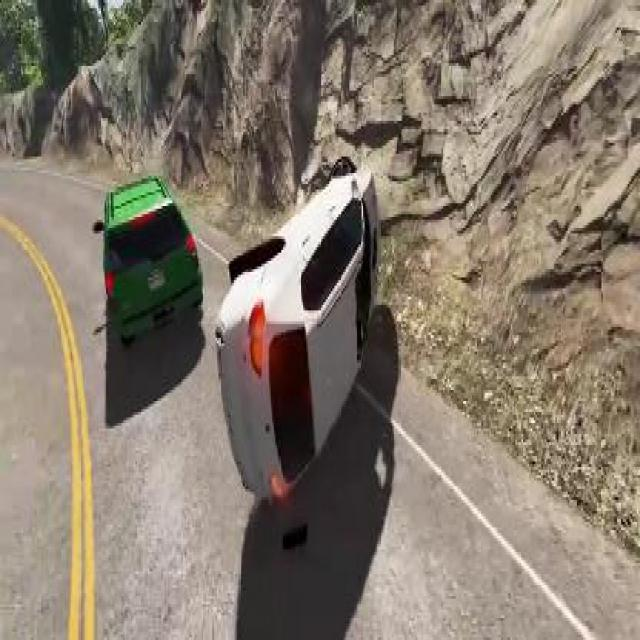accident: (212, 148, 383, 508)
